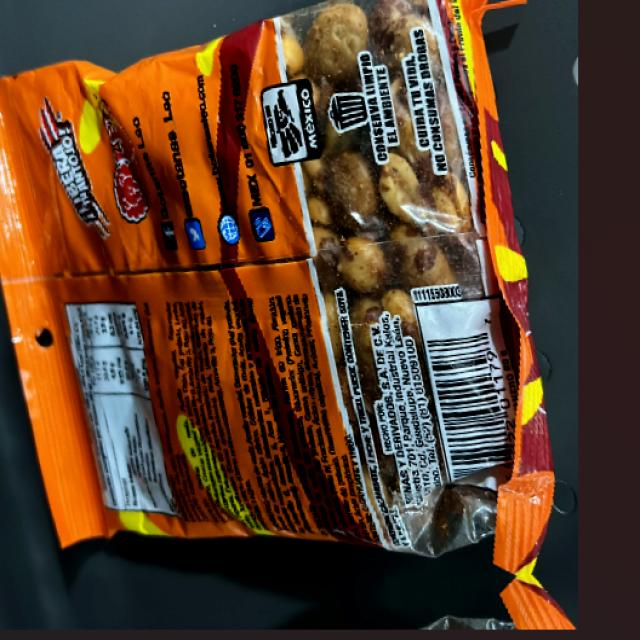productoAtras: (0, 69, 527, 538)
